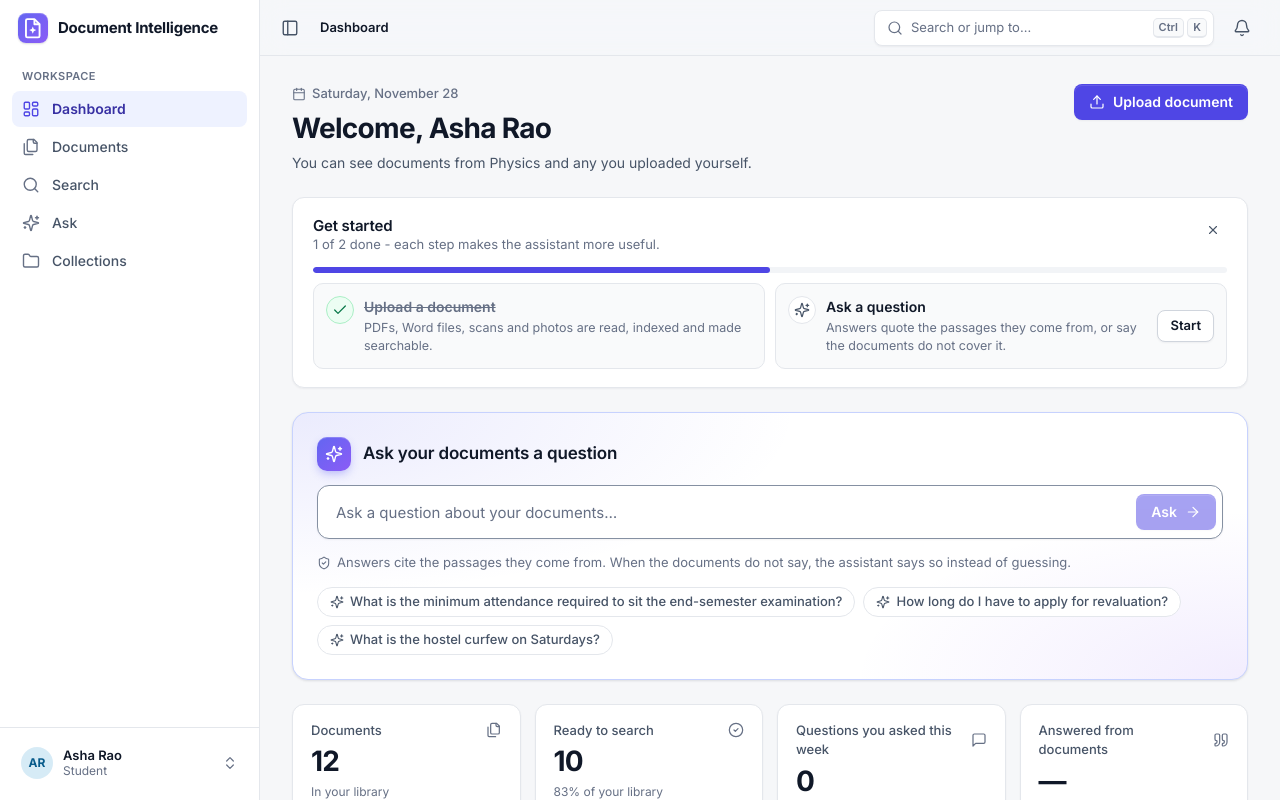
Test: top bar › chooses the theme in one place: the user menu, not a top-bar toggle
The width and height of the screenshot is (1280, 800).
Check: the heading "Welcome, Asha Rao" is shown, box [292,110,551,144]
Click the button "AR Asha Rao Student" at (130, 763), box [12,738,247,788]
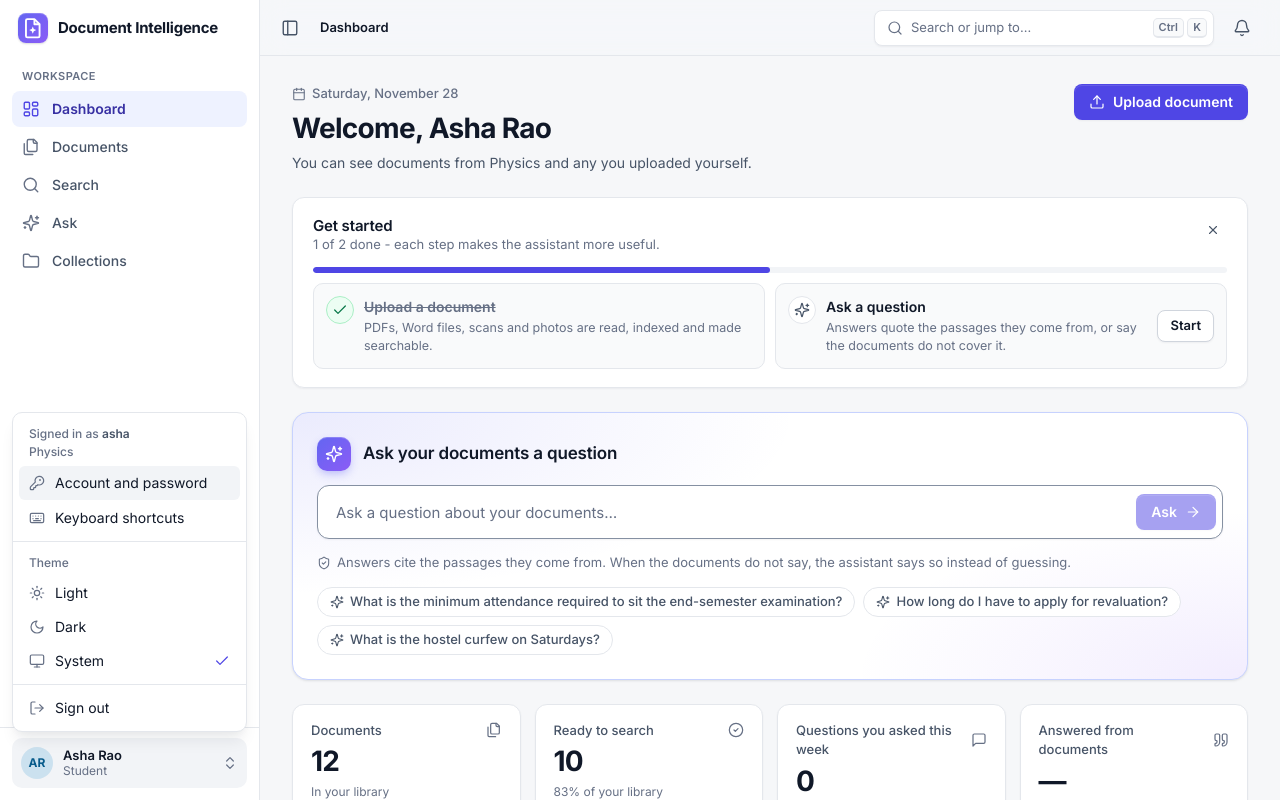
Check: the menu item "Dark" is shown, box [19,610,240,644]
Check: the menu item "System" is shown, box [19,644,240,678]
